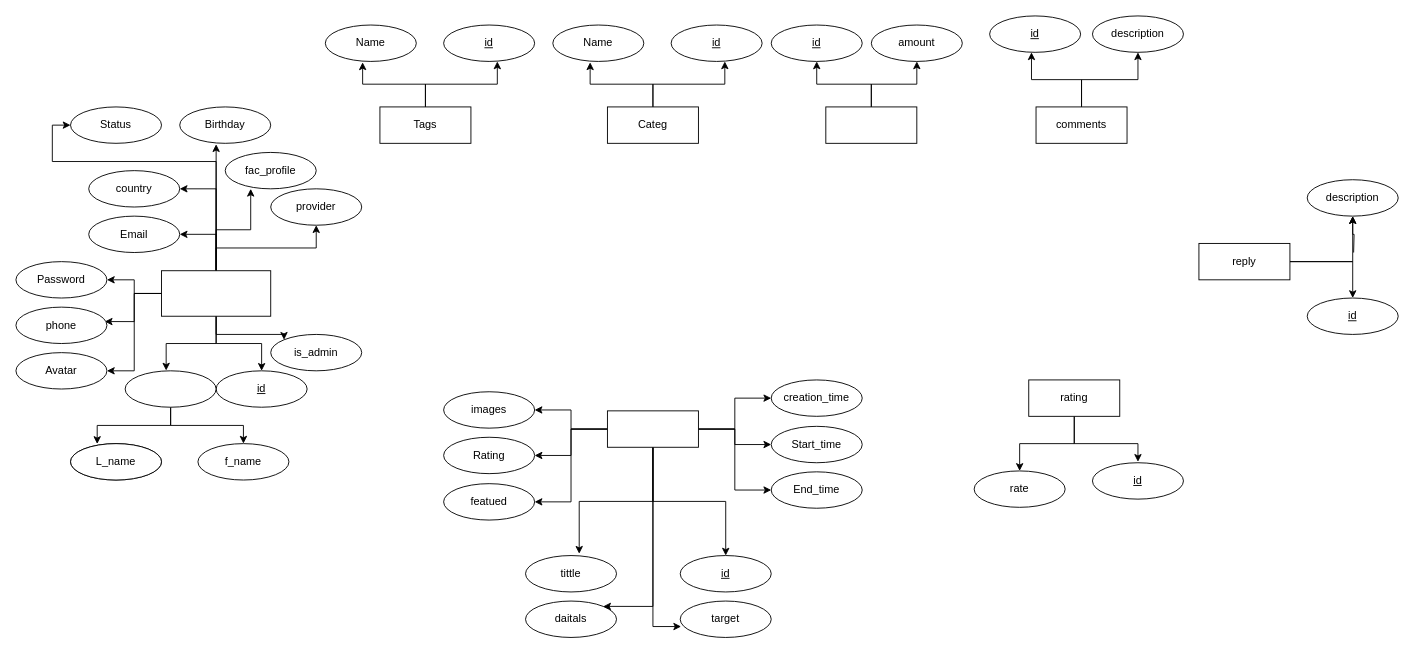
This 1414x653 diagram has some shape labels left out. The shapes that lost their labels are listed below. From the top down, each one's box as (x1, y1, x2, y2) in pixels, then its label:
(825, 106, 917, 143): donations
(161, 270, 271, 316): user
(124, 370, 216, 407): user_name
(607, 410, 698, 447): project
